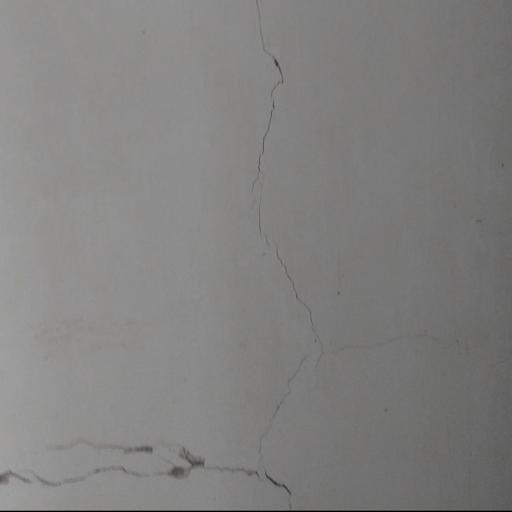minor_crack: (221, 0, 341, 477), (0, 435, 305, 512)
